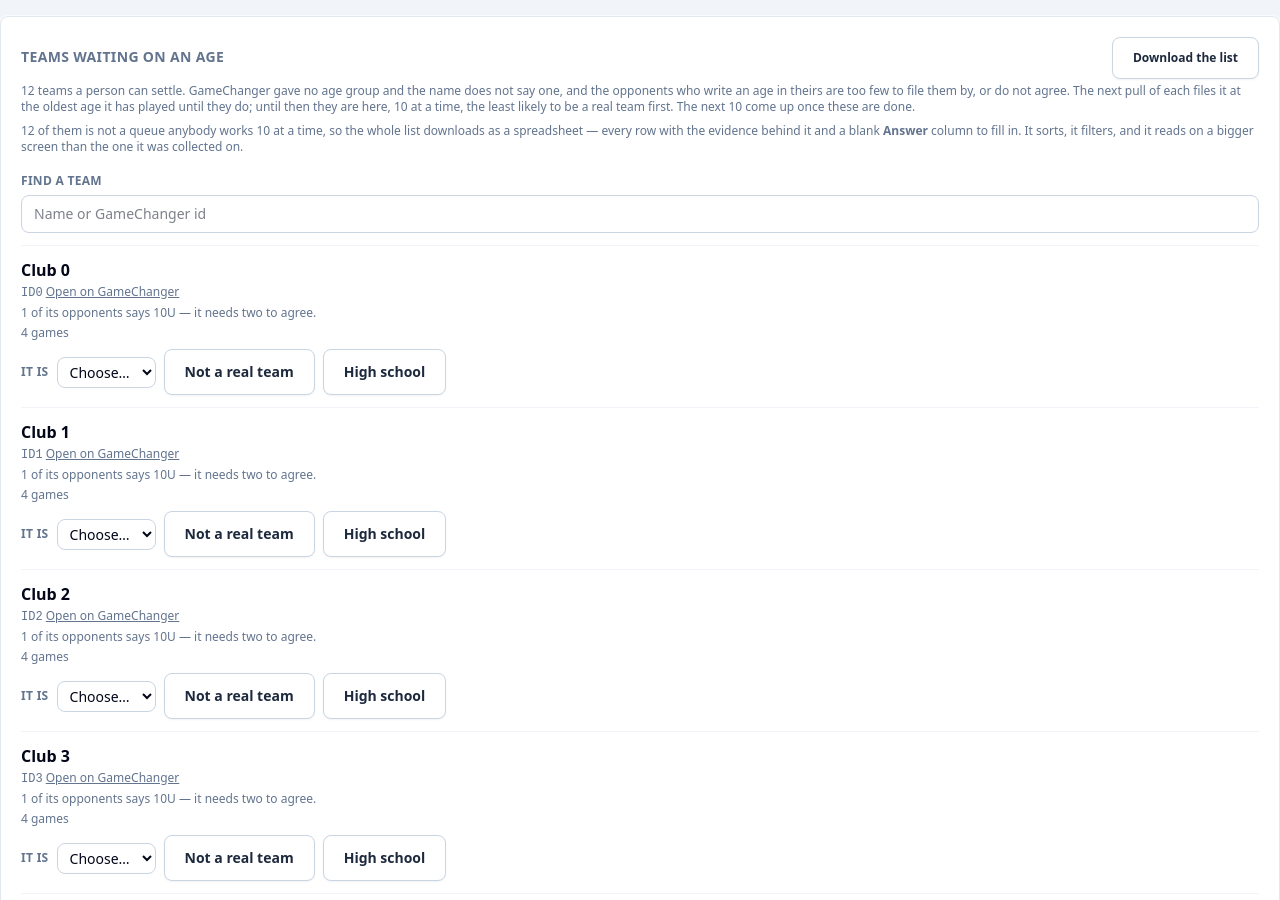
Test: the review card for teams waiting on an age › does not promise to file an age named for a page its name refuses
This screenshot has width=1280, height=900.
Type "Team 7" into the search field labelled "Find a team" at point(640, 214), box top-left (21, 195), bottom-right (1259, 233)
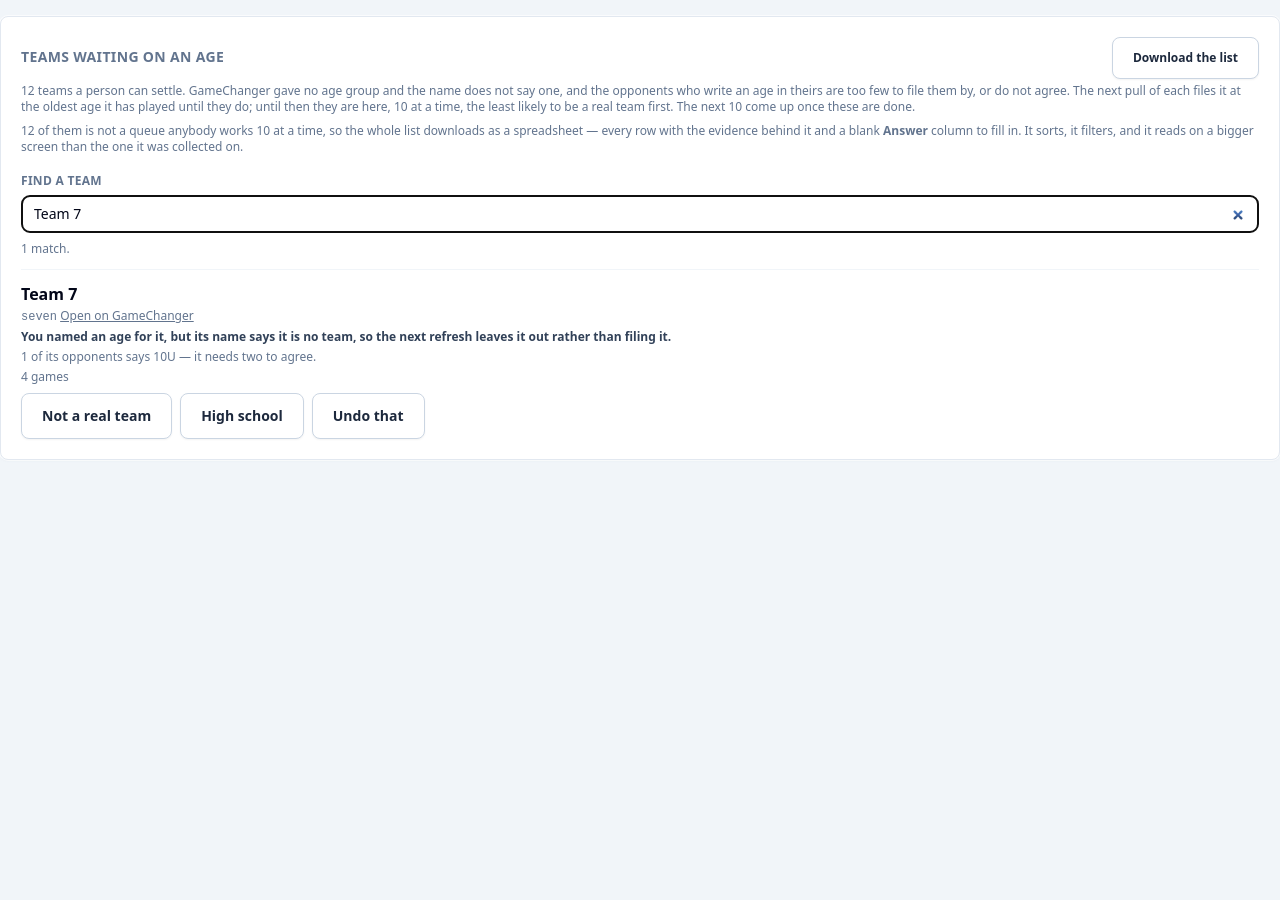
Expected: the button "Undo that" is shown, top-left (312, 393), bottom-right (425, 439)
